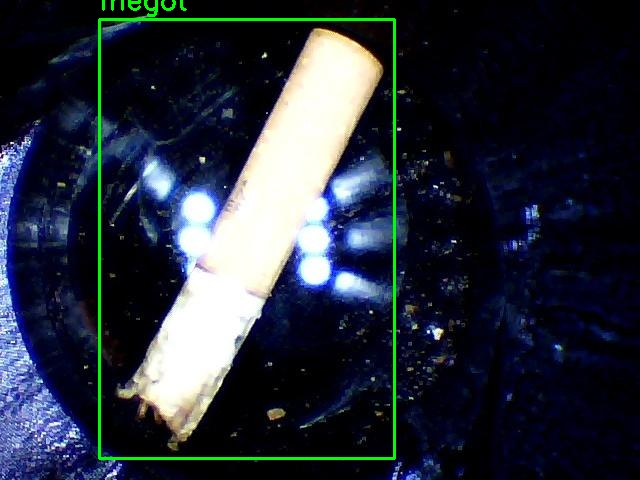megot: (99, 19, 394, 458)
